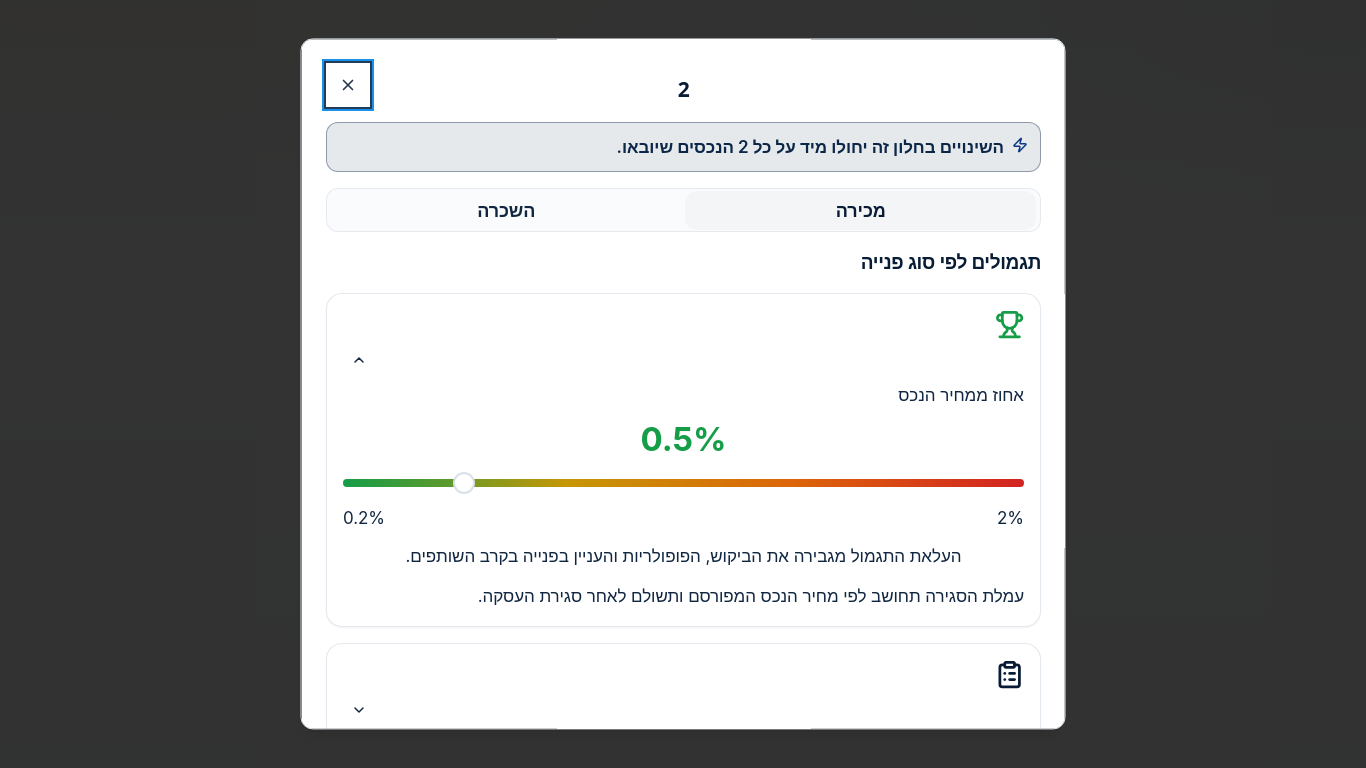
Test case: batch import agreement and modes › switches mixed inventory from default 0.5% sale to default 20% rent without losing the sale setting
Press End in the slider, box x1=452 y1=473 x2=474 y2=495
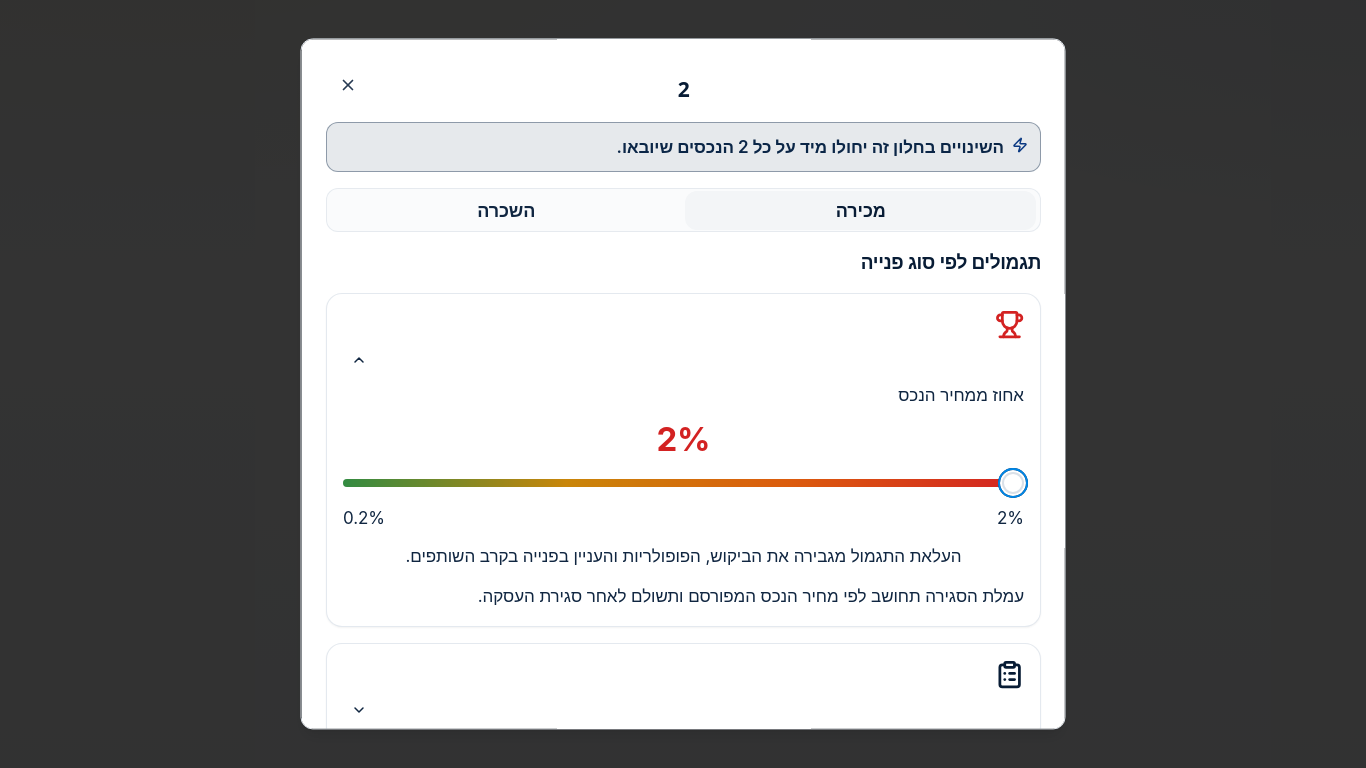
Press the mouse on the tab "השכרה" at coordinates (506, 211), box x1=330 y1=191 x2=681 y2=230
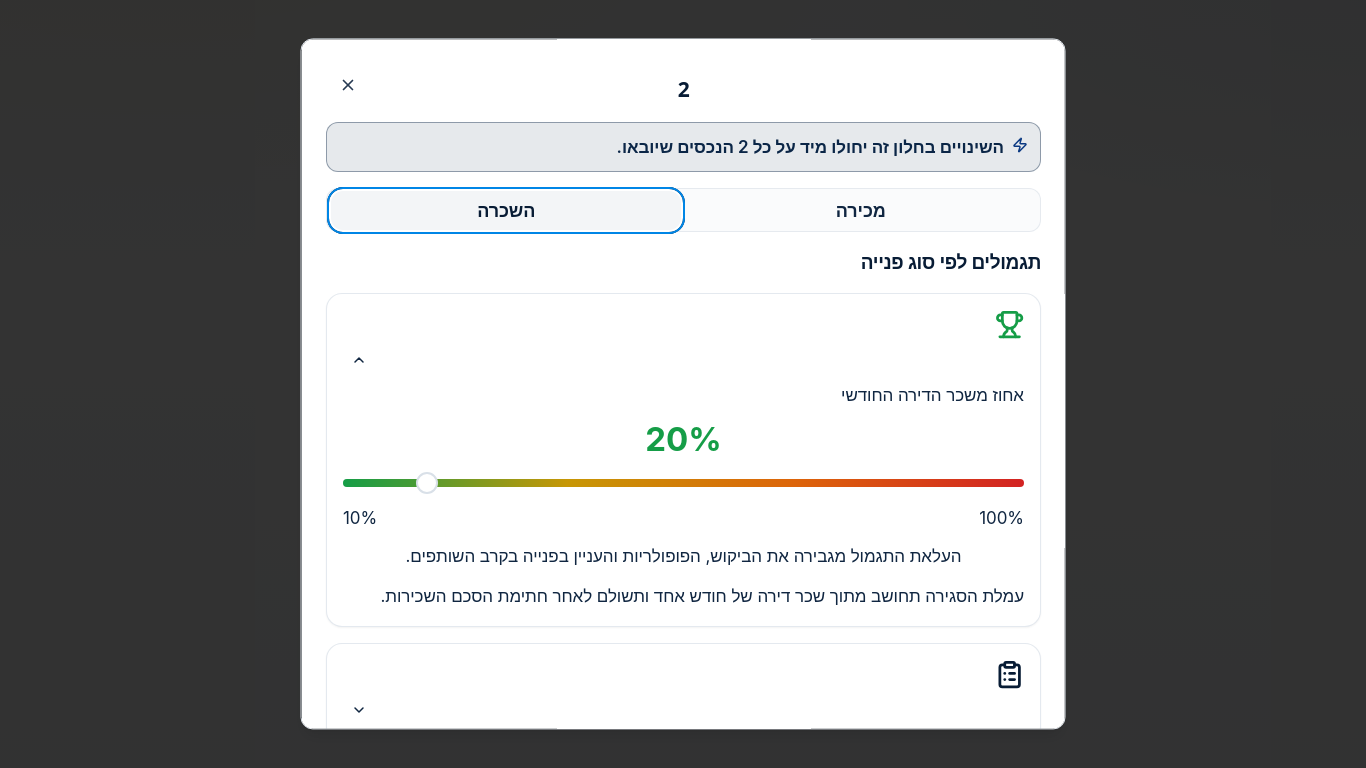
Now the slider has attribute aria-valuenow="20"
Press Home in the slider, box x1=416 y1=473 x2=438 y2=495
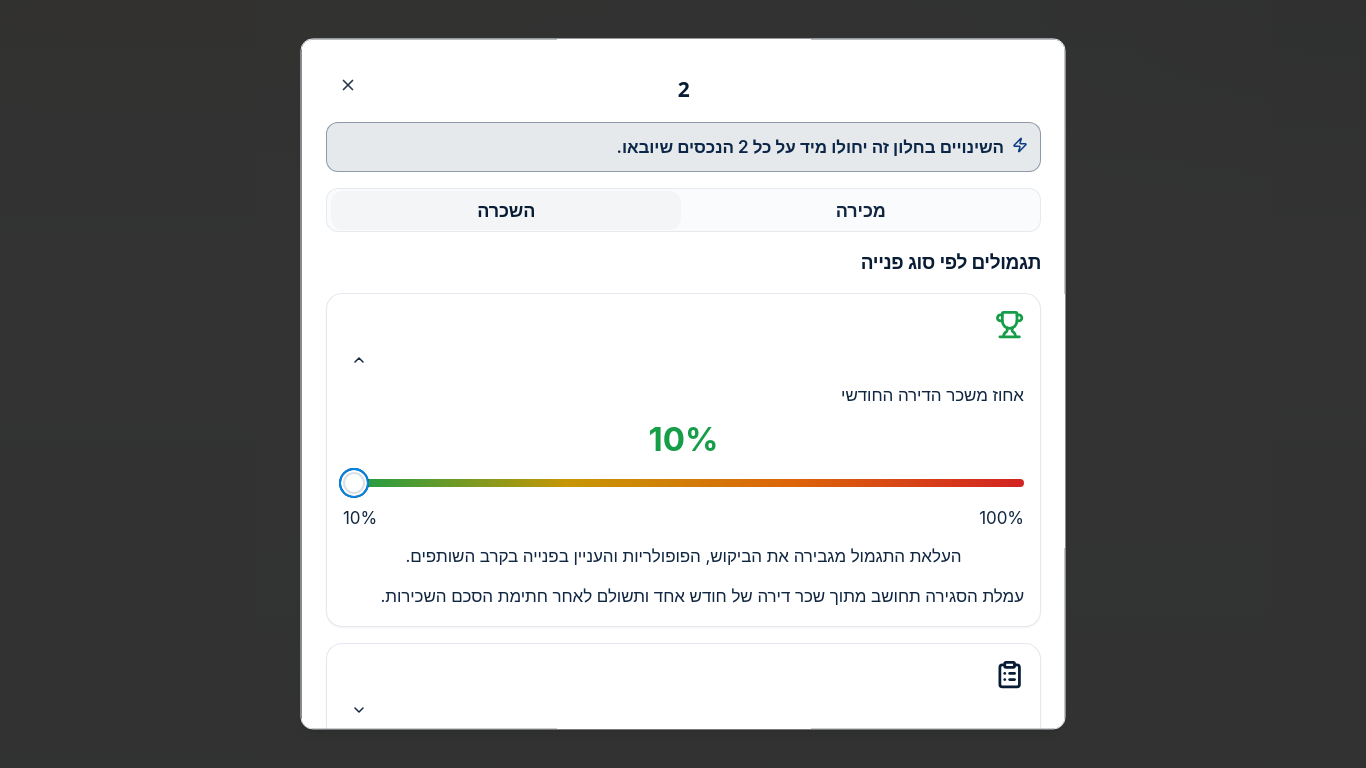
Now the slider has attribute aria-valuenow="10", box x1=342 y1=473 x2=364 y2=495
Press the mouse on the tab "מכירה" at coordinates (860, 211), box x1=685 y1=191 x2=1036 y2=230
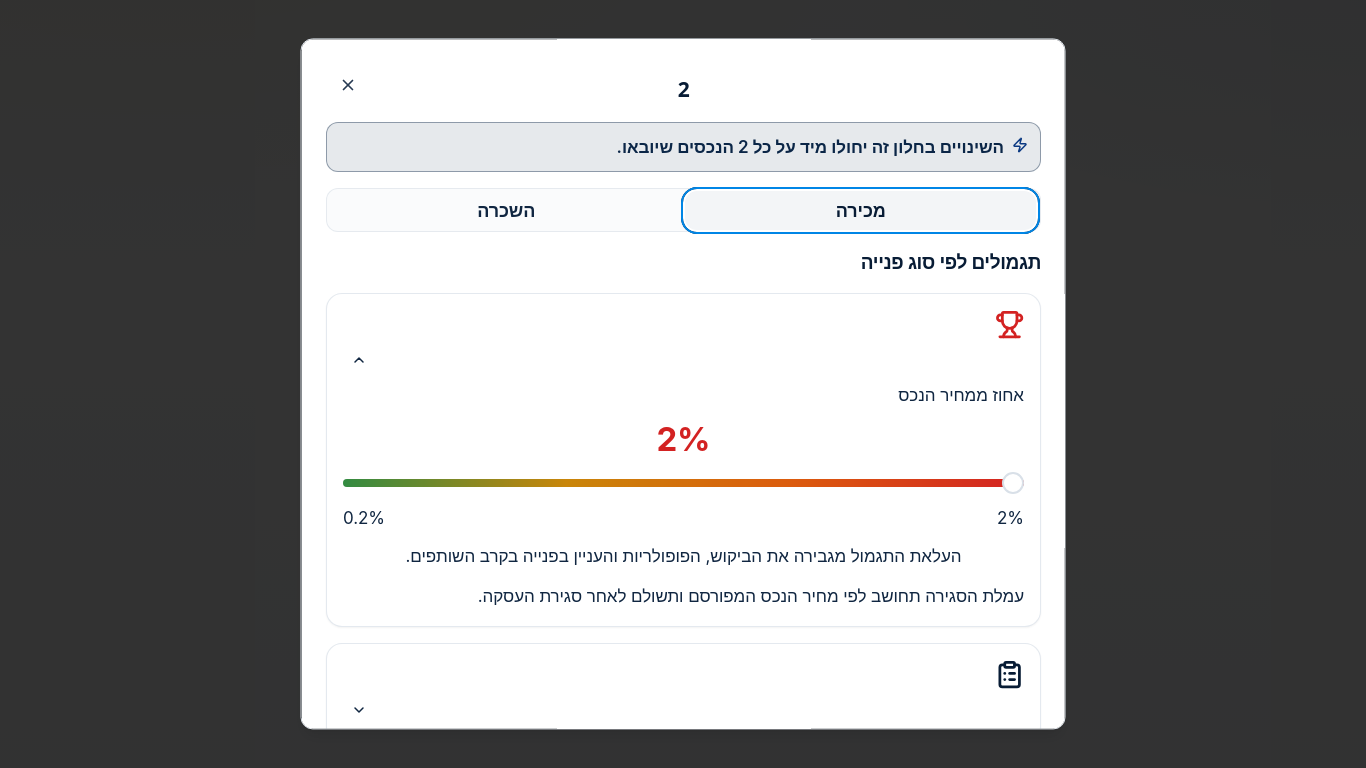
Now the slider has attribute aria-valuenow="2", box x1=1002 y1=473 x2=1024 y2=495
